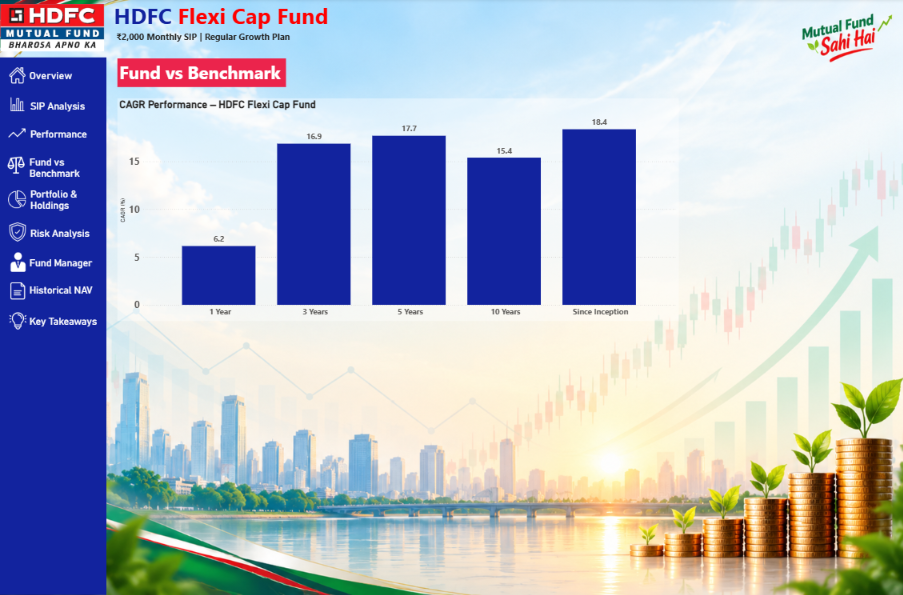

This screenshot's page, from the dashboard's own definition file:
{"tool":"powerbi","page":{"name":"Fund Vs Benchmark","canvas":[2200,1450],"ordinal":3},"visuals":[{"type":"clusteredColumnChart","title":"CAGR Performance – HDFC Flexi Cap Fund","fields":{"Category":["Key Performance (CAGR %).Period"],"Y":["Avg(Key Performance (CAGR %).HDFC Flexi Cap)"]},"box":[290.3,242.5,1363.8,540.8],"z":0},{"type":"textbox","box":[289.6,145.2,409.9,69.7],"z":1000},{"type":"shape","box":[0,143.1,262.4,1306.2],"z":2000},{"type":"image","box":[18.4,163.9,53.3,49.2],"z":3000},{"type":"image","box":[16.4,235.6,59.4,43],"z":4000},{"type":"image","box":[20.5,297.1,51.2,61.5],"z":5000},{"type":"image","box":[12.3,377,61.5,57.4],"z":6000},{"type":"image","box":[16.4,461,55.3,53.3],"z":7000},{"type":"image","box":[16.4,532.7,59.4,69.7],"z":8000},{"type":"image","box":[18.4,612.6,57.4,57.4],"z":9000},{"type":"image","box":[22.5,686.3,55.3,51.2],"z":10000},{"type":"image","box":[22.5,756,51.2,55.3],"z":11000},{"type":"actionButton","title":"Performance","box":[77.6,315.6,167.7,61.3],"z":12000},{"type":"actionButton","title":"Fund vs Benchmark","box":[76.2,383.3,169.4,76.2],"z":13000},{"type":"actionButton","title":"Portfolio &  Holdings","box":[77.9,461,184.4,71.7],"z":14000},{"type":"actionButton","title":"Risk Analysis","box":[77.6,555.5,167.7,64.9],"z":15000},{"type":"actionButton","title":"SIP Analysis","box":[77.9,247.9,168,61.5],"z":16000},{"type":"actionButton","title":"Overview","box":[75.5,173,133.2,63.6],"z":17000},{"type":"actionButton","title":"Fund Manager","box":[75.8,629,172.1,57.4],"z":18000},{"type":"actionButton","title":"Historical NAV","box":[75.8,694.5,178.2,79.9],"z":19000},{"type":"actionButton","title":"Key Takeaways","box":[75.8,770.3,188.5,63.5],"z":20000},{"type":"textbox","box":[262.5,0,557.5,81.7],"z":21000},{"type":"textbox","box":[282.5,72.5,457.5,38.8],"z":22000},{"type":"image","box":[0,0,262.1,142.8],"z":23000}]}

Visuals, with their boxes on the page's 2200x1450 design canvas (x1, y1, x2, y2). These are canvas units, not pixel positions in the 903x595 screenshot, which may show the page scaled, cropped or inside an application window:
"CAGR Performance – HDFC Flexi Cap Fund" clusteredColumnChart: [290,242,1654,783]
textbox: [290,145,700,215]
shape: [0,143,262,1449]
image: [18,164,72,213]
image: [16,236,76,279]
image: [20,297,72,359]
image: [12,377,74,434]
image: [16,461,72,514]
image: [16,533,76,602]
image: [18,613,76,670]
image: [22,686,78,738]
image: [22,756,74,811]
"Performance" actionButton: [78,316,245,377]
"Fund vs Benchmark" actionButton: [76,383,246,460]
"Portfolio &  Holdings" actionButton: [78,461,262,533]
"Risk Analysis" actionButton: [78,556,245,620]
"SIP Analysis" actionButton: [78,248,246,309]
"Overview" actionButton: [76,173,209,237]
"Fund Manager" actionButton: [76,629,248,686]
"Historical NAV" actionButton: [76,694,254,774]
"Key Takeaways" actionButton: [76,770,264,834]
textbox: [262,0,820,82]
textbox: [282,72,740,111]
image: [0,0,262,143]
